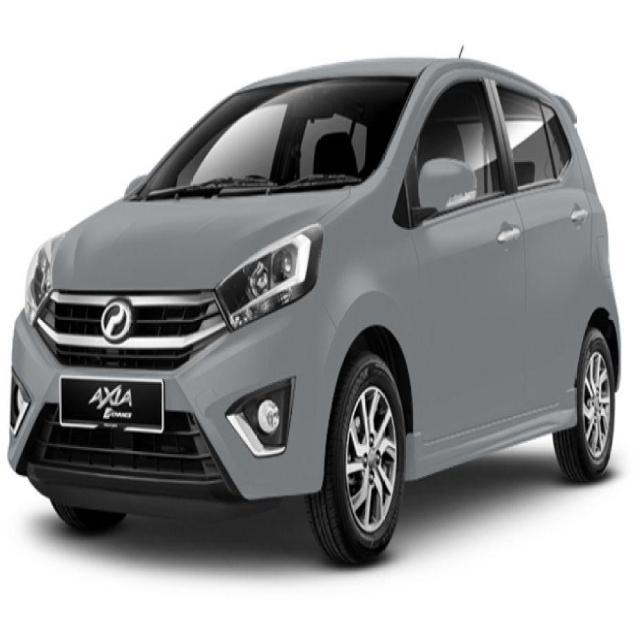PeroduaAxia: (5, 46, 623, 567)
